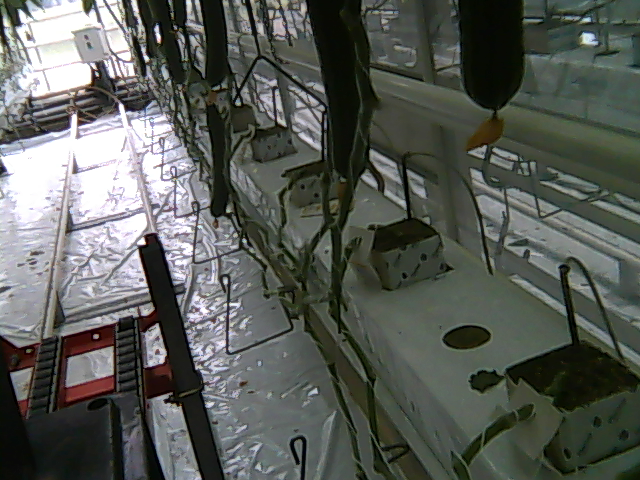concombre: (304, 1, 372, 179), (453, 1, 527, 150)
